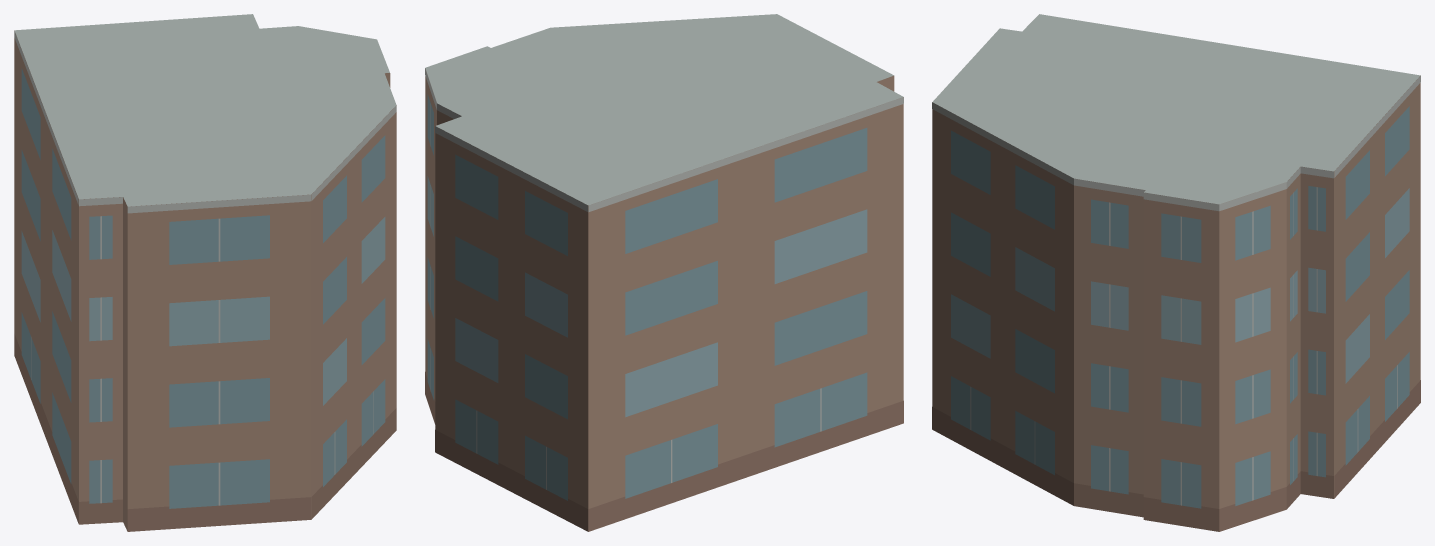
The model's file is survey-upis-32804464.glb.
3 views of the same model, side by side, from view 1: azimuth 30°, elevation 25°; view 2: azimuth 150°, elevation 25°; view 3: azimuth 270°, elevation 25° (orthographic).
Visible parts, largest first — view 1: survey-upis-32804464.tmp; view 2: survey-upis-32804464.tmp; view 3: survey-upis-32804464.tmp.
Part boxes in pixels (<box>): survey-upis-32804464.tmp: <box>14,14,396,531</box>; survey-upis-32804464.tmp: <box>425,14,903,531</box>; survey-upis-32804464.tmp: <box>932,14,1420,531</box>.
Size of the model in its own units: 14.47 by 11.6 by 15.69.
